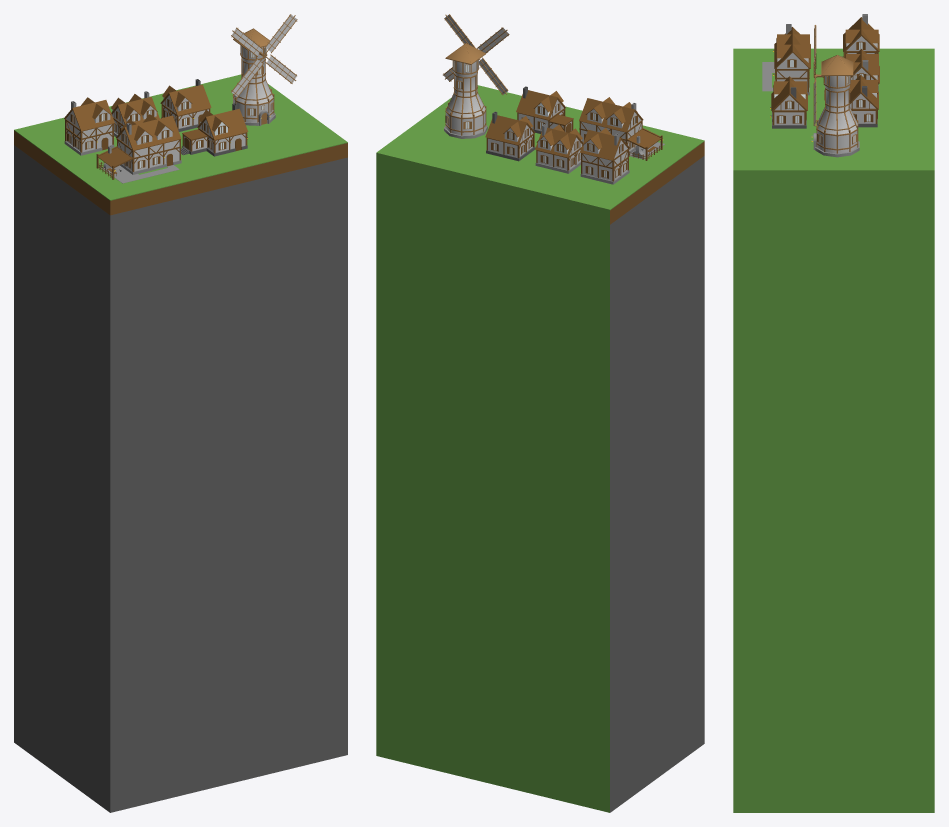
Rendered from uploads_files_722556_full+medieval+building+pack.fbx.
3 renders of one model, left to right at view 1: azimuth 30°, elevation 25°; view 2: azimuth 150°, elevation 25°; view 3: azimuth 270°, elevation 25°, orthographic. The views are drawn at different scales.
Visible parts, largest first — view 1: ground, house1, windmill, house5, house2, house3, house4; view 2: ground, windmill, house1, house2, house3, house4, house5; view 3: ground, windmill, house1, house5, house3, house2, house4.
Boxes of the visible parts, x1,y1,x2,y2 form: ground: (14,74,347,812); house1: (96,114,181,183); windmill: (231,14,297,125); house5: (181,103,248,156); house2: (64,97,114,155); house3: (160,79,211,131); house4: (111,91,159,136); ground: (376,85,704,812); windmill: (443,14,509,138); house1: (579,97,664,160); house2: (580,128,629,184); house3: (485,111,535,161); house4: (535,124,582,173); house5: (516,86,573,133); ground: (733,48,934,812); windmill: (811,25,859,157); house1: (762,24,810,95); house5: (770,76,807,128); house3: (849,75,878,127); house2: (842,14,879,57); house4: (845,49,879,91).
Bounding box in the file's own units: 641 × 1848 × 450.
